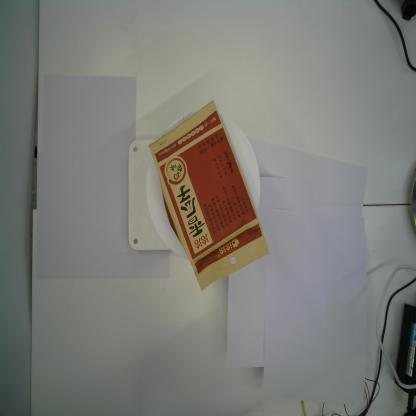Dried Food: (148, 100, 270, 292)
